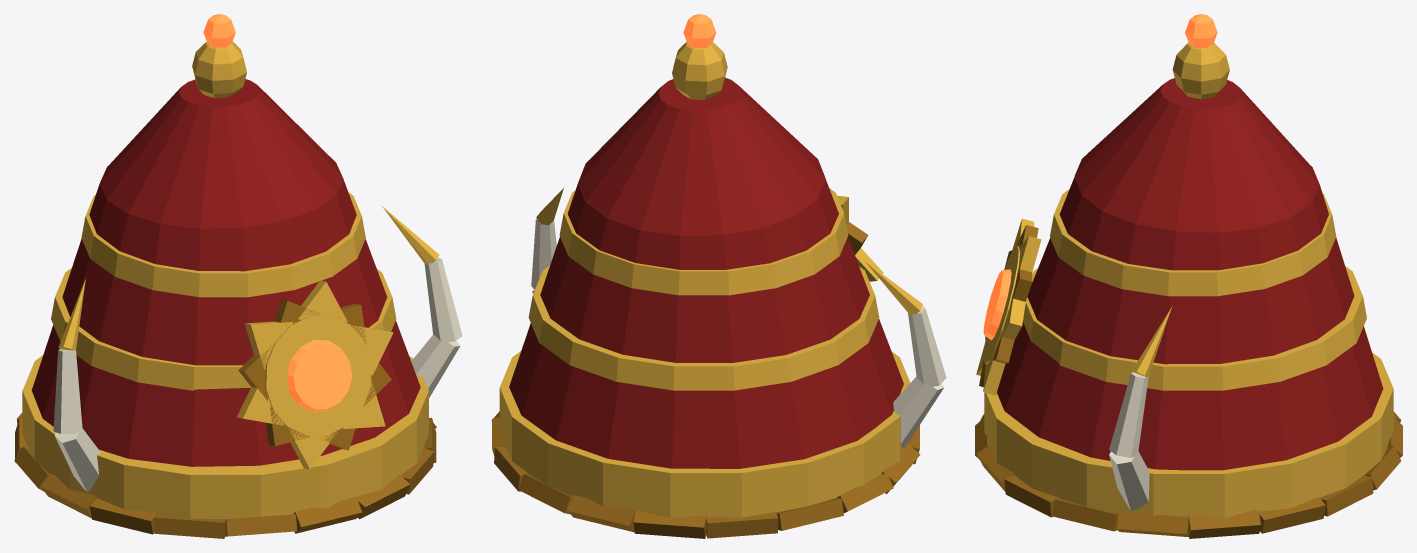
Rendered from abbot_hat.glb.
The picture shows the model from 3 angles, left to right: view 1: azimuth 30°, elevation 25°; view 2: azimuth 150°, elevation 25°; view 3: azimuth 270°, elevation 25°; orthographic projection.
Parts seen in each view (by area): view 1: abbot_hat; view 2: abbot_hat; view 3: abbot_hat.
Boxes of the visible parts, box(x1,y1,x2,y2) form: abbot_hat: box(14, 14, 462, 538); abbot_hat: box(491, 14, 946, 538); abbot_hat: box(975, 14, 1402, 538).
Bounding box in the file's own units: 1.14 × 1.18 × 1.04.
